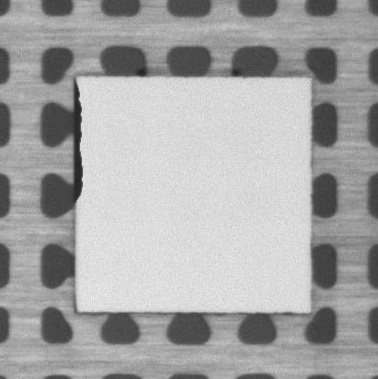DIE_BROKEN: (71, 79, 85, 207)
